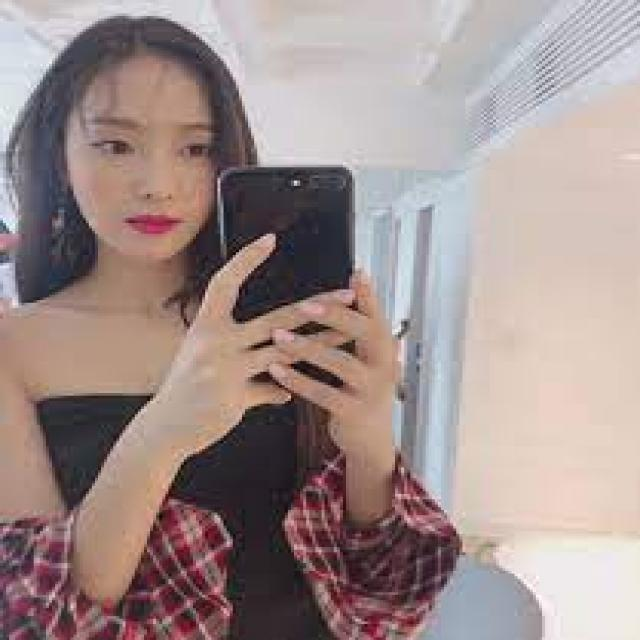Phone: (215, 158, 360, 392)
